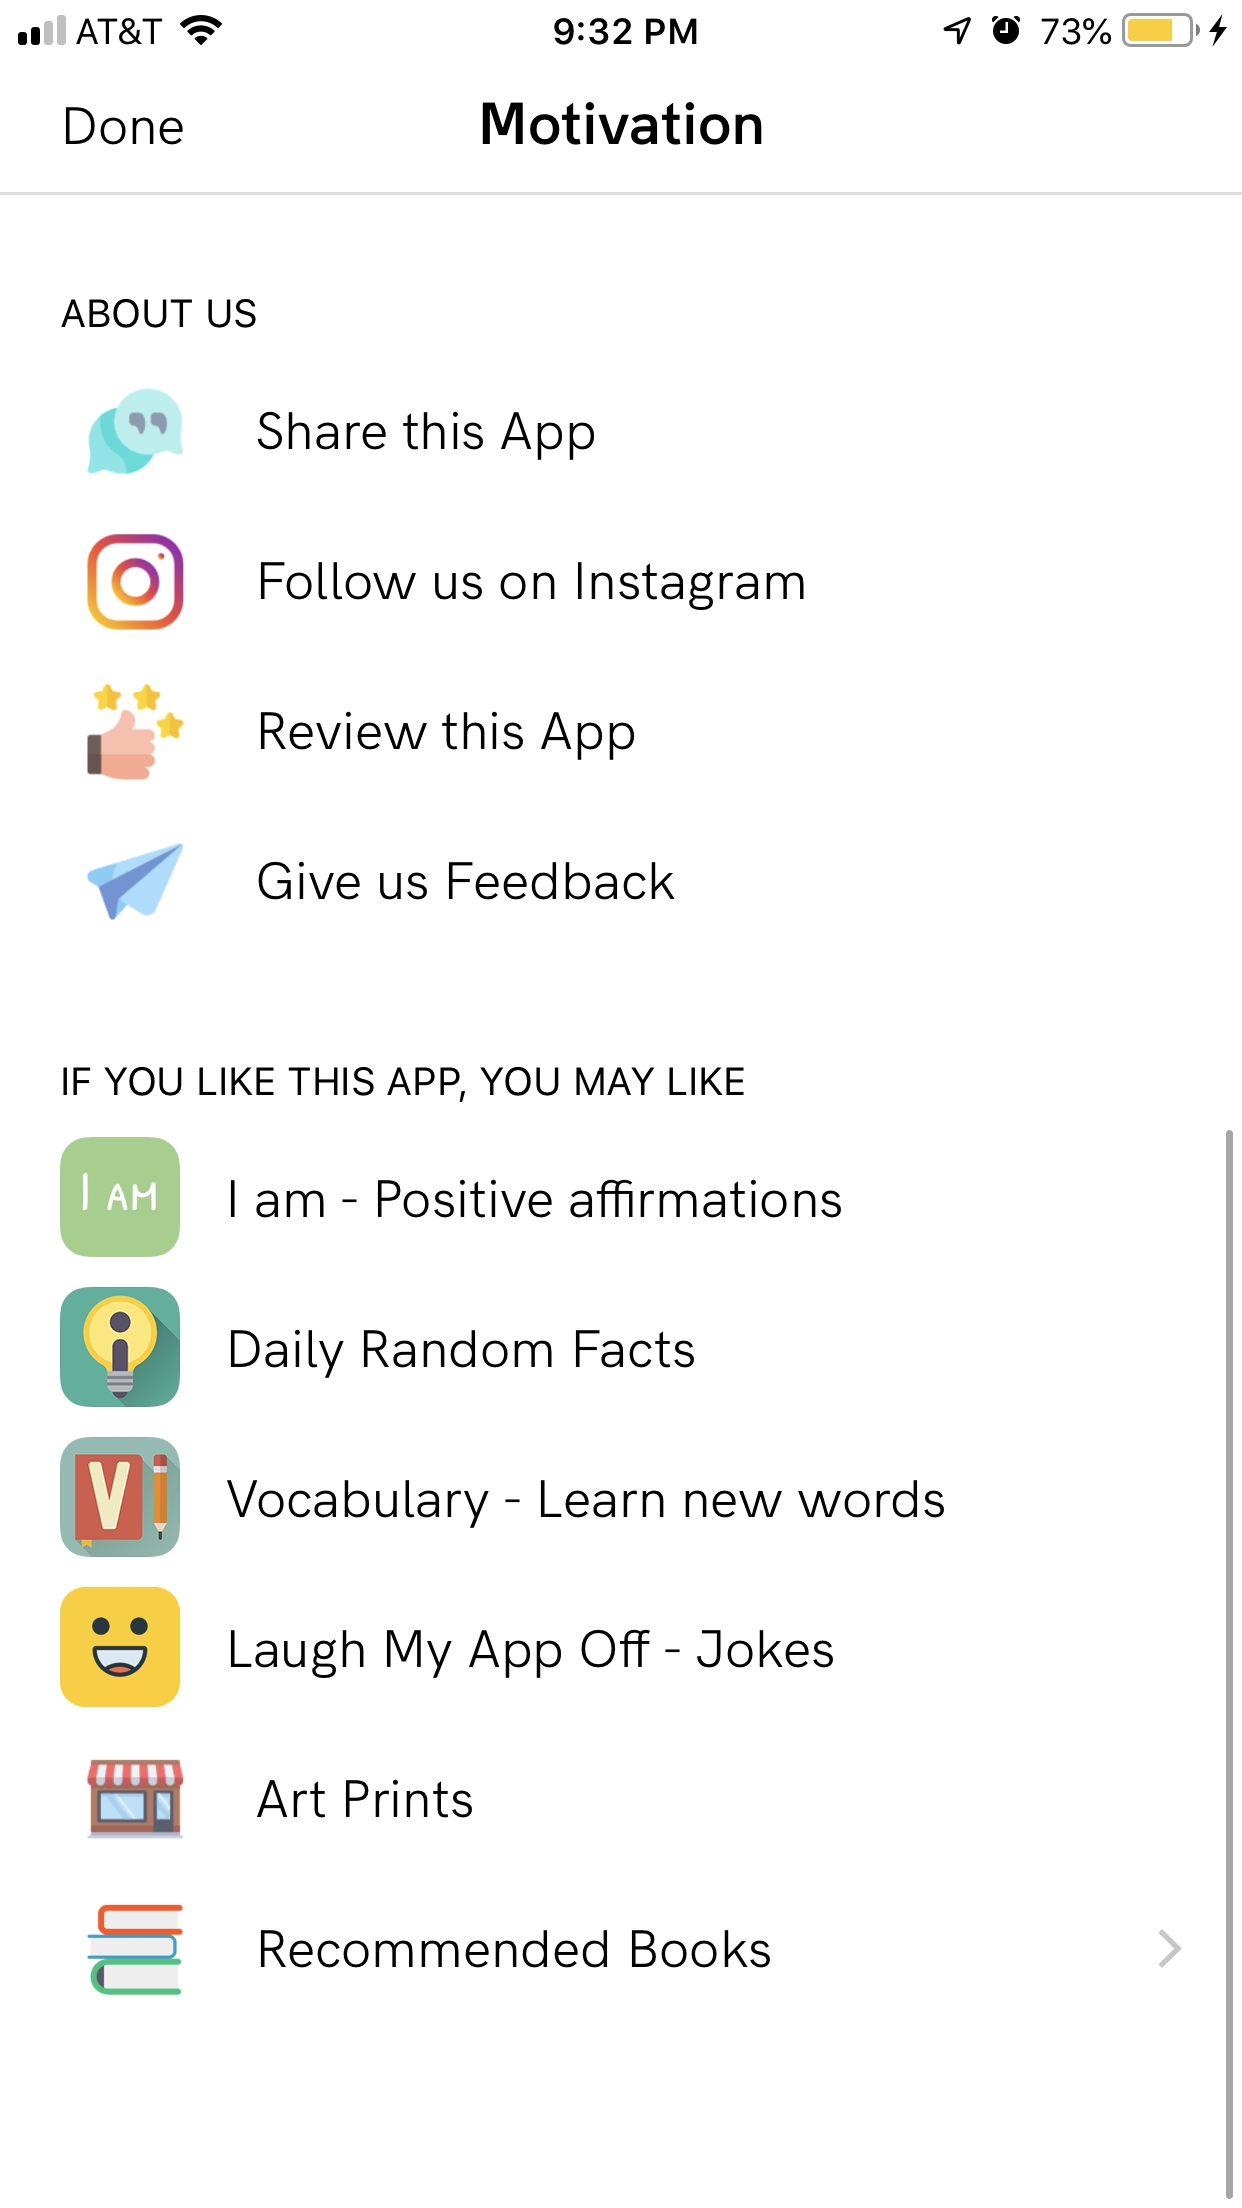Icon: (1159, 1929, 1183, 1968)
Image: (61, 1137, 180, 1259), (61, 1586, 180, 1708), (61, 1287, 180, 1407), (61, 1438, 180, 1557), (86, 684, 185, 783), (86, 534, 185, 631), (86, 1905, 185, 1996), (88, 388, 185, 476), (86, 1761, 185, 1839), (86, 843, 183, 921)
Text: (227, 1479, 945, 1529), (231, 1629, 834, 1679), (261, 563, 805, 613), (231, 1178, 842, 1219), (64, 1066, 745, 1102), (231, 1328, 695, 1378), (261, 1930, 770, 1968), (259, 711, 635, 761), (258, 412, 596, 463), (258, 861, 676, 901), (482, 102, 763, 147), (256, 1779, 475, 1818), (61, 299, 256, 331), (68, 105, 190, 153)
UpperTaskBar: (2, 2, 1242, 50)
